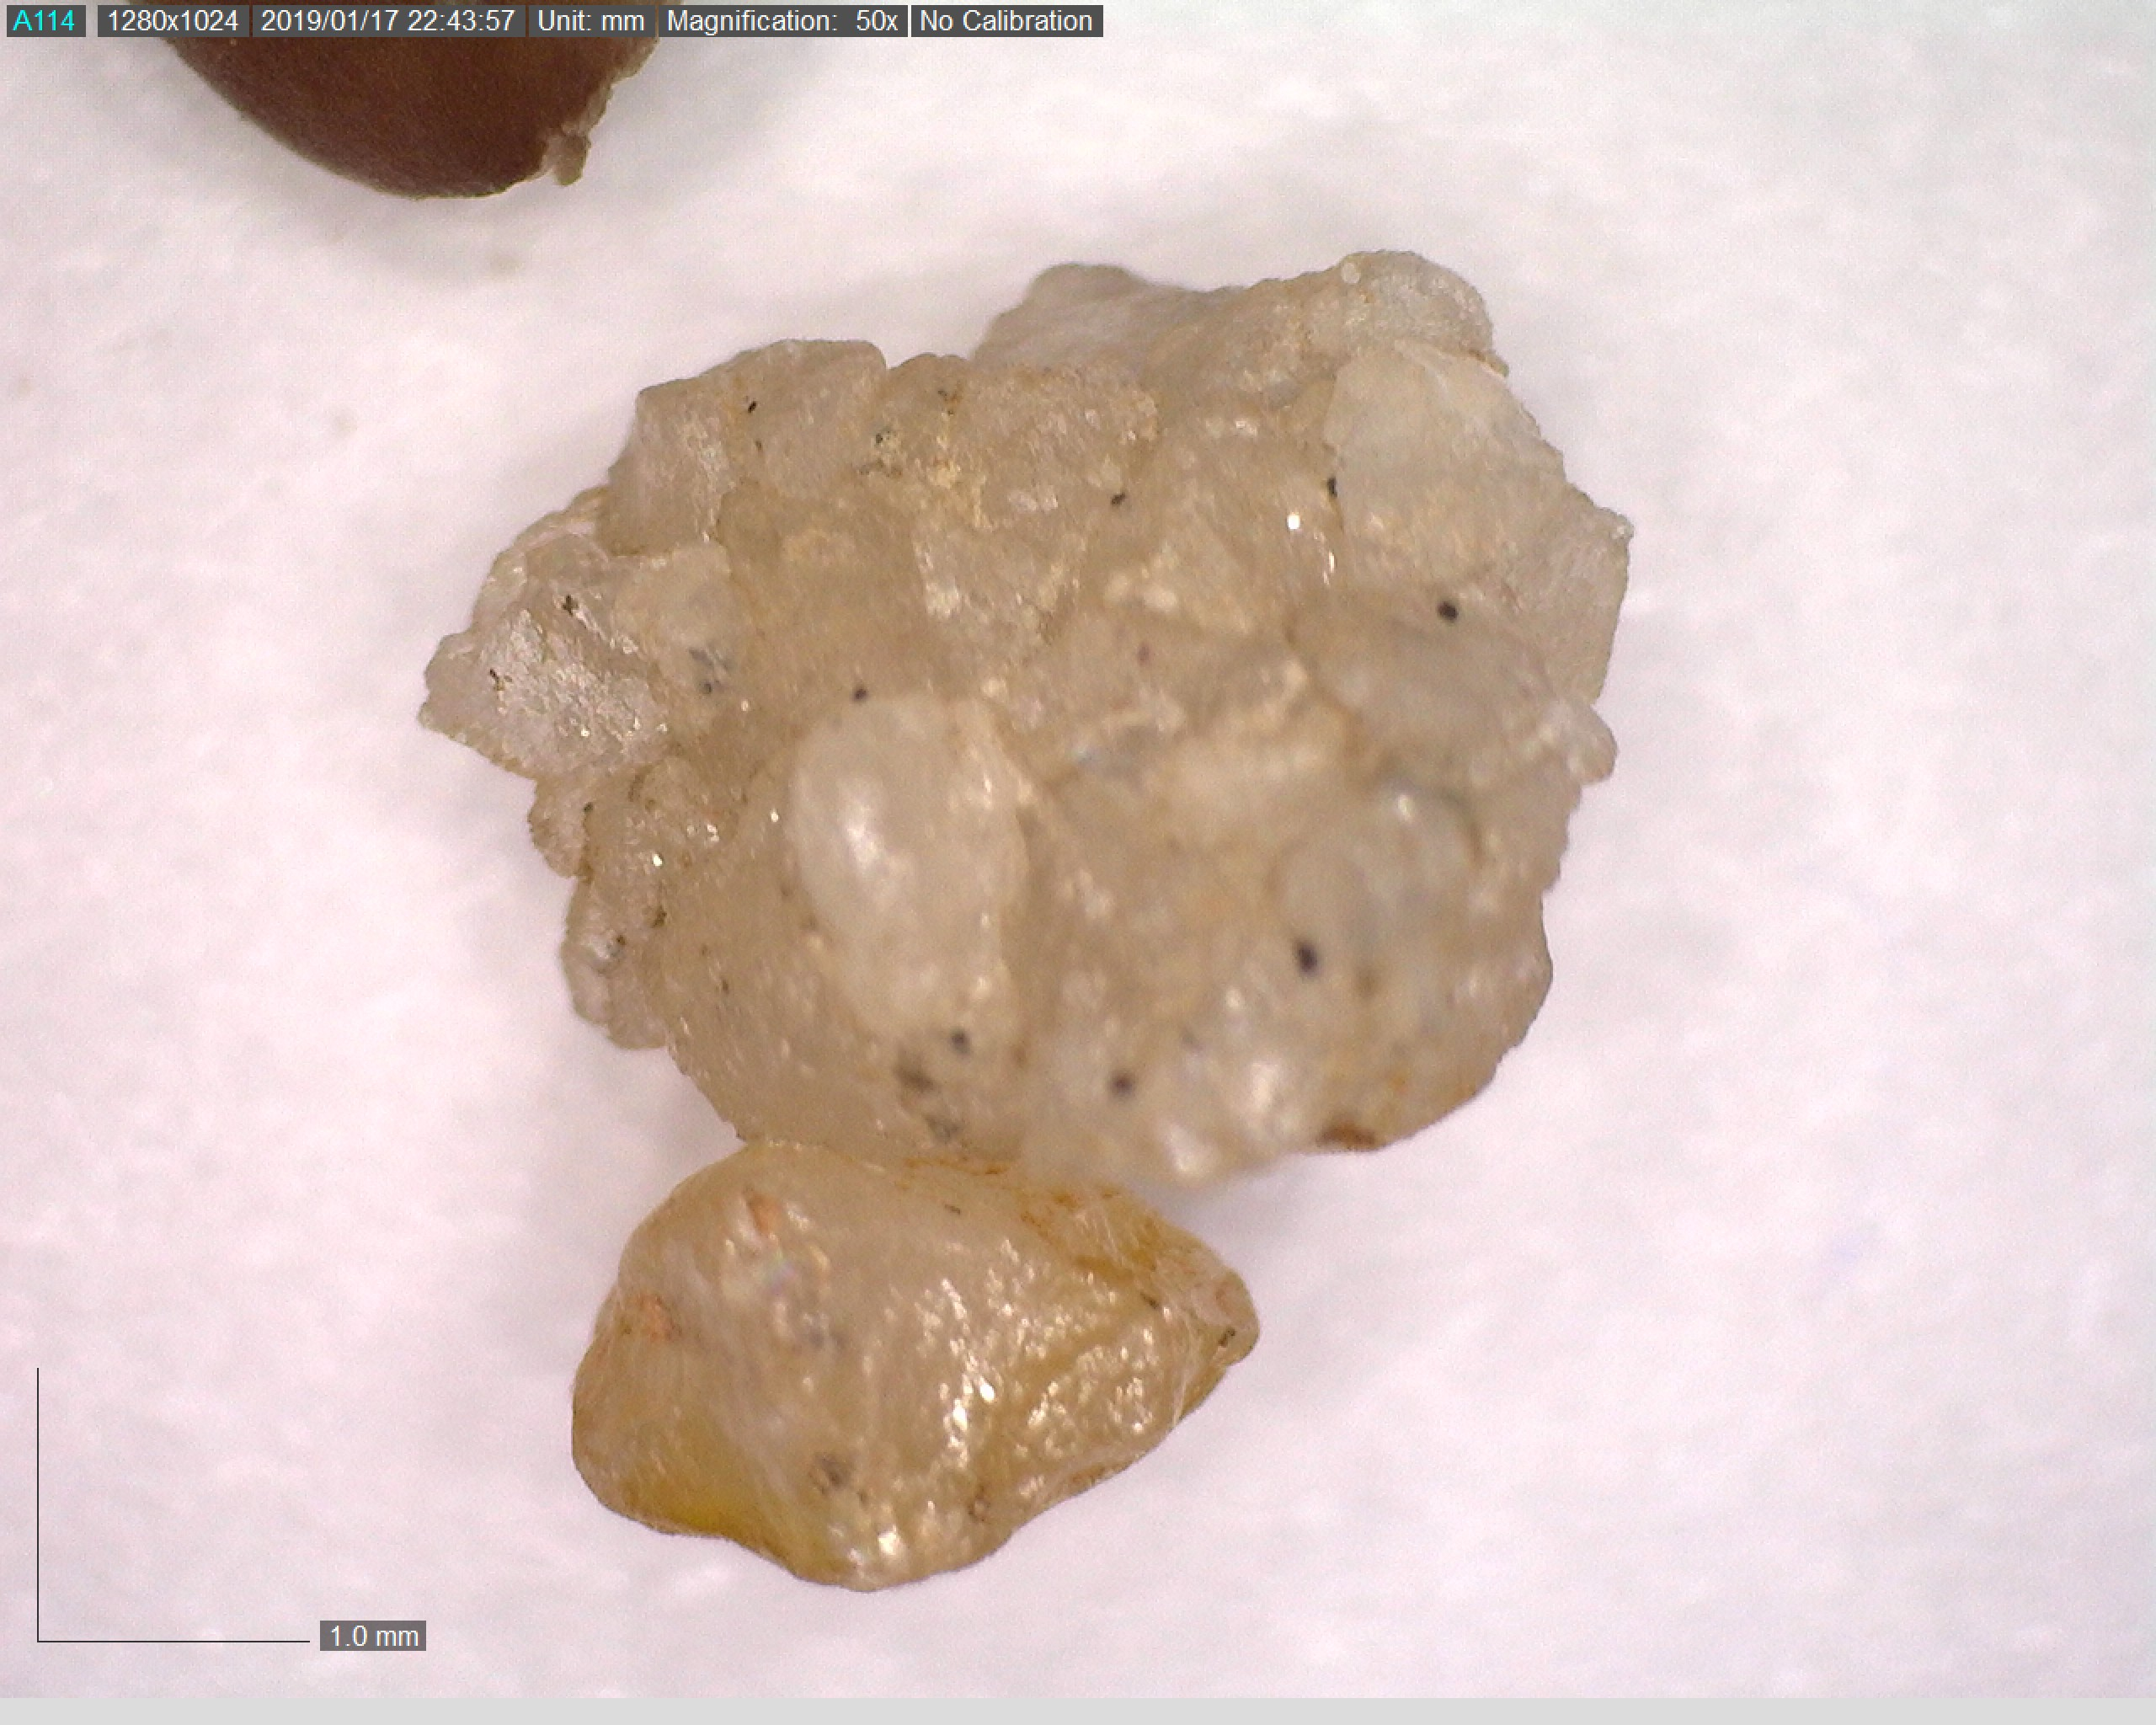Quartz: (400, 241, 1642, 1171), (528, 1149, 1260, 1577)
